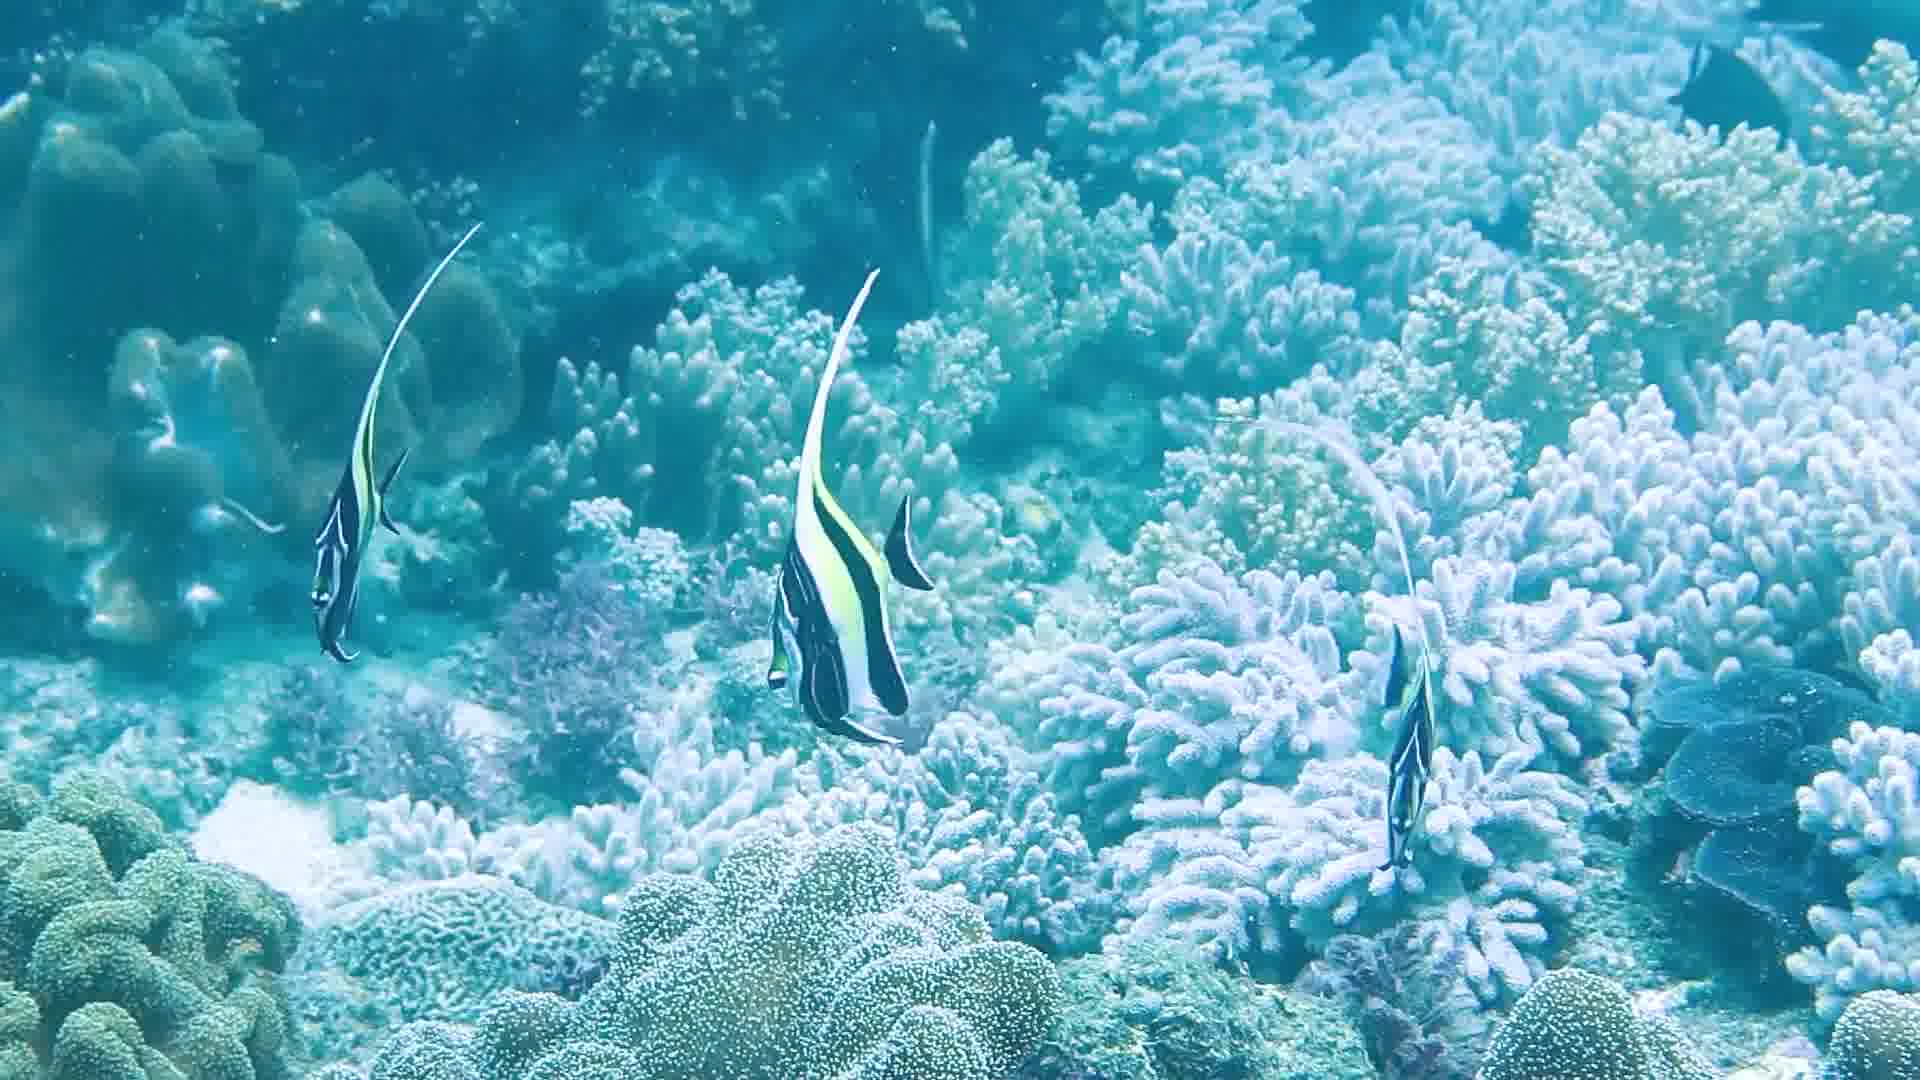Zanclus cornutus: (705, 438, 949, 746), (272, 368, 440, 618), (1348, 630, 1468, 903)
